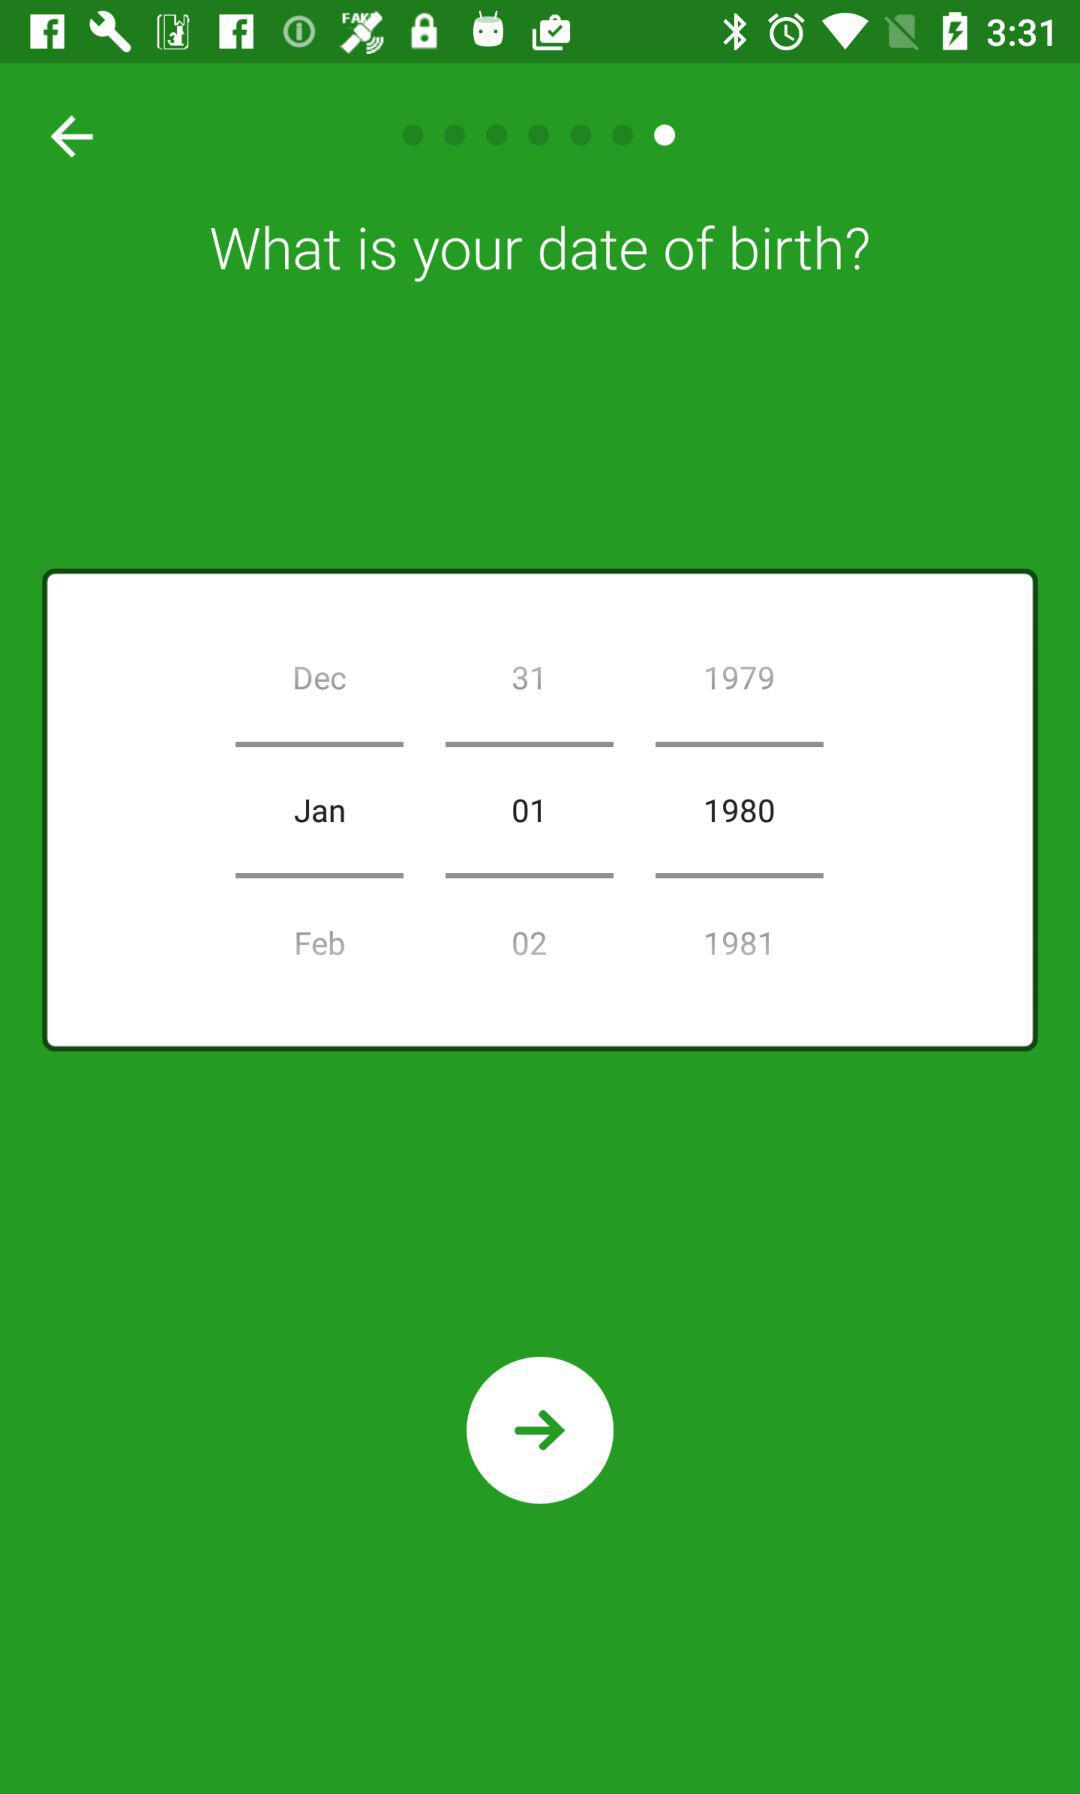Icon: (466, 1356, 615, 1504), (50, 115, 96, 161)
Image: (42, 569, 1039, 1052)
PageIndicator: (400, 120, 676, 149)
Text: (210, 226, 870, 284)
UpperTaskBar: (1, 1, 1080, 64)
